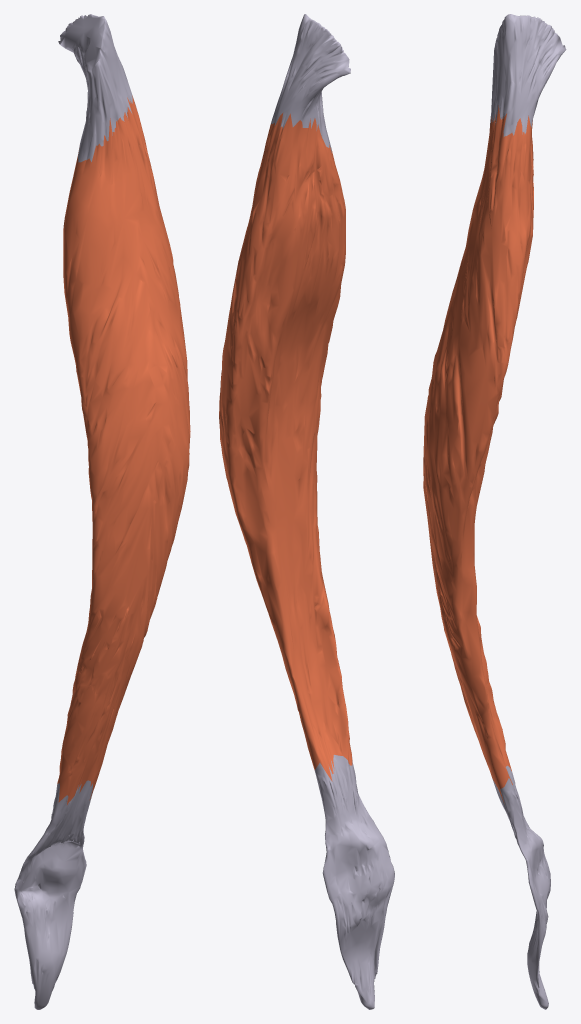
File: Rectus_femoris_left.glb
The picture shows the model from 3 angles, left to right: view 1: azimuth 30°, elevation 25°; view 2: azimuth 210°, elevation 25°; view 3: azimuth 270°, elevation 25°; orthographic projection. The views are drawn at different scales.
Parts seen in each view (by area): view 1: Rectus_femoris_muscle.l_Generated_Mesh_From_X3D.245; view 2: Rectus_femoris_muscle.l_Generated_Mesh_From_X3D.245; view 3: Rectus_femoris_muscle.l_Generated_Mesh_From_X3D.245.
Boxes of the visible parts, bbox=[...] form: Rectus_femoris_muscle.l_Generated_Mesh_From_X3D.245: bbox=[14, 14, 190, 1009]; Rectus_femoris_muscle.l_Generated_Mesh_From_X3D.245: bbox=[219, 14, 394, 1009]; Rectus_femoris_muscle.l_Generated_Mesh_From_X3D.245: bbox=[423, 14, 566, 1009].
Size of the model in its own units: 0.0816 by 0.5453 by 0.0695.
